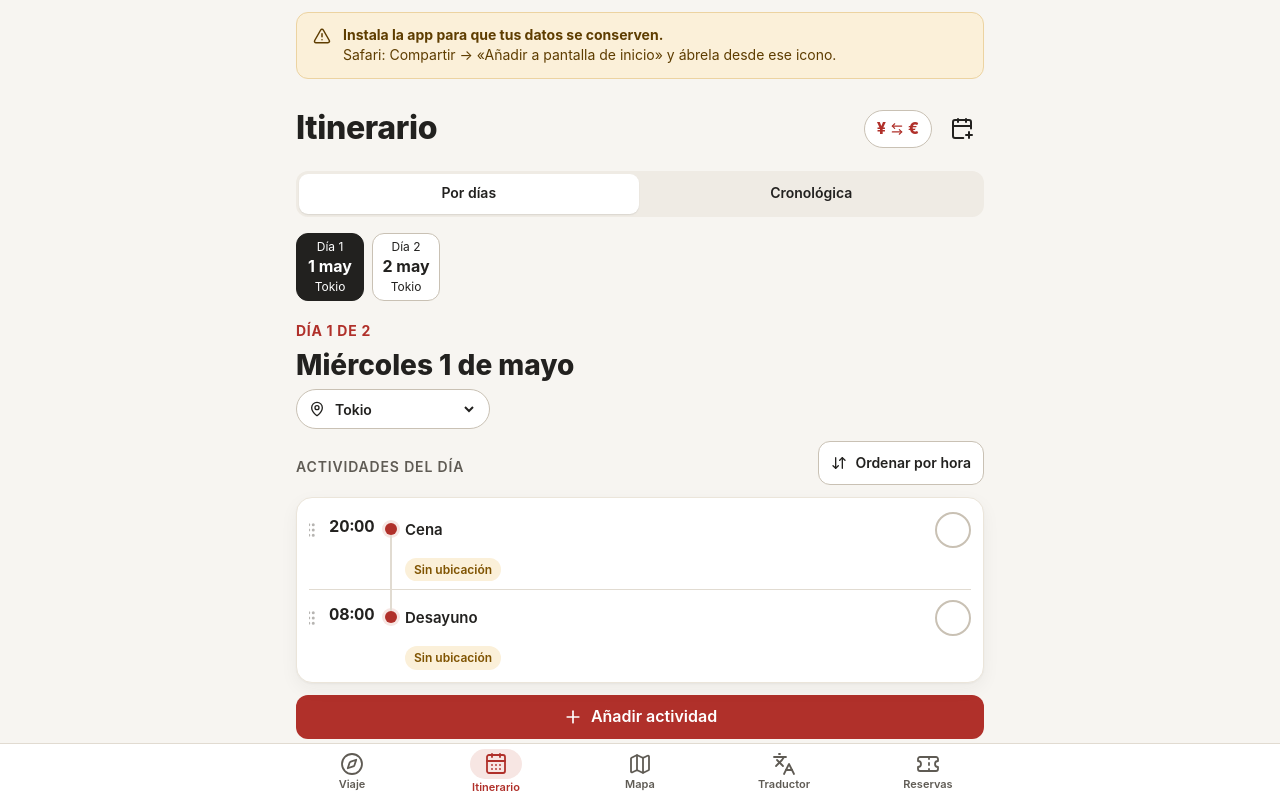
Test: línea de tiempo del día › ofrece ordenar por hora cuando las actividades están desordenadas y lo hace
Click the button "Ordenar por hora": (901, 463) [818,441,984,485]
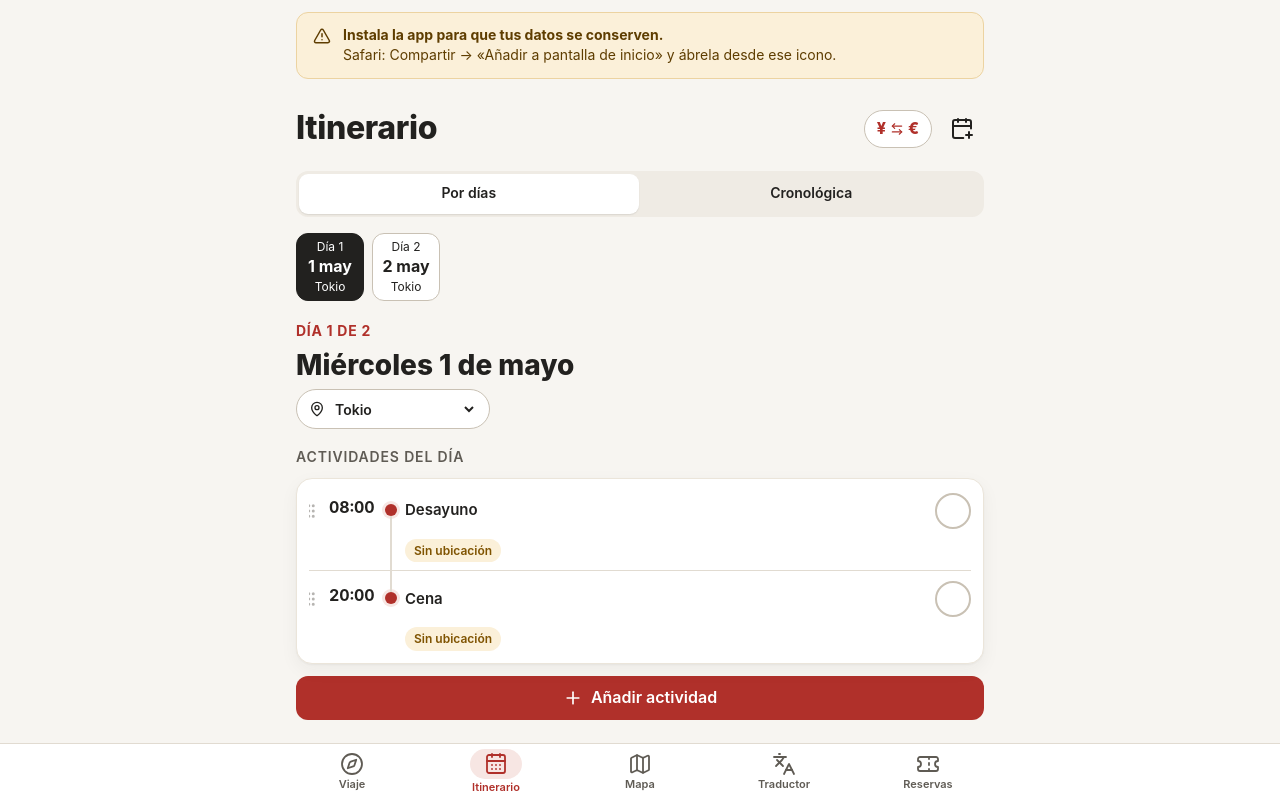
Expected: the button "Ordenar por hora" is gone
